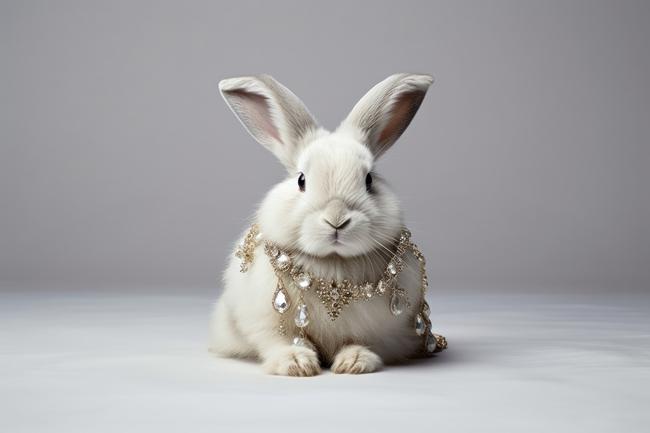rabbit: (210, 68, 458, 381)
